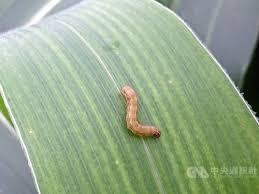fallarmy_worm: (116, 85, 166, 138)
